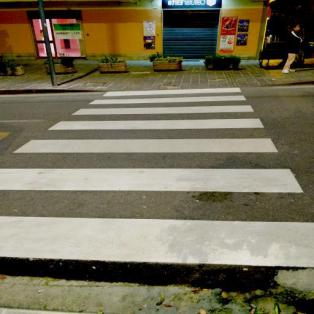Paso de Cebra: (0, 161, 312, 271), (44, 103, 268, 133)
